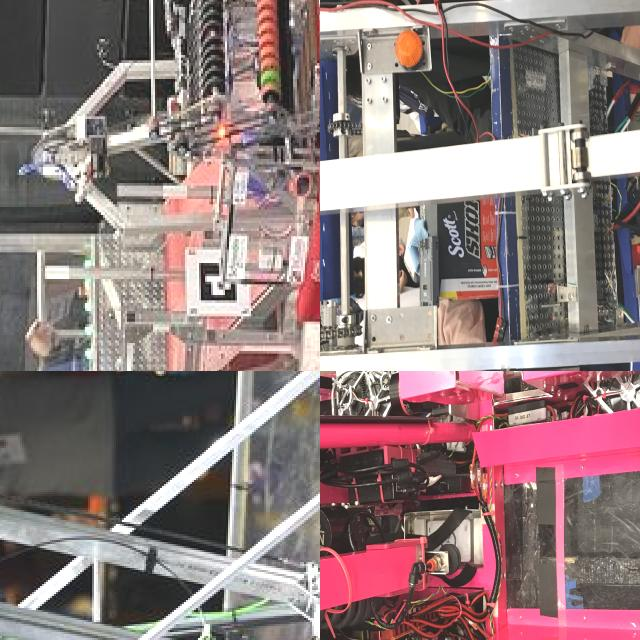FRC-Robots: (0, 0, 320, 371), (320, 0, 640, 371), (0, 371, 320, 640), (320, 371, 640, 640)
